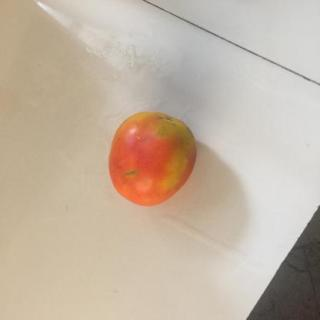Tomat: (104, 107, 208, 213)
